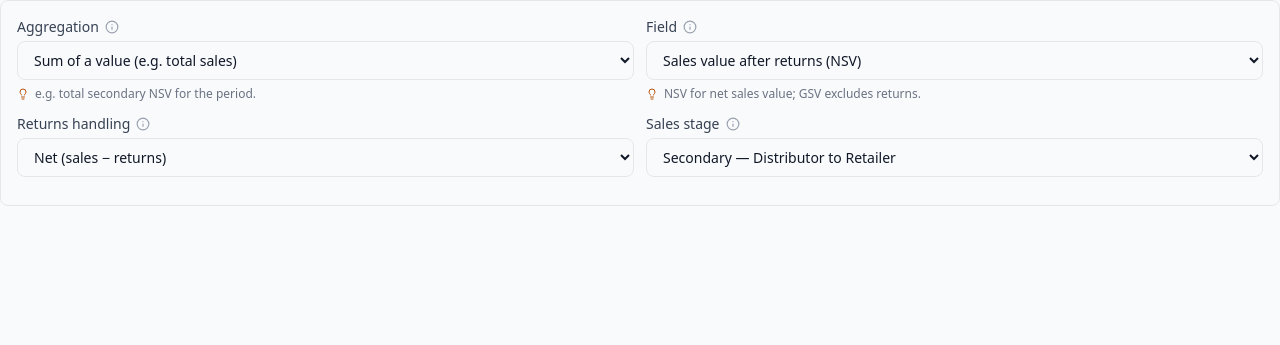
Test: MeasurementBuilder aggregation switching › moves the field into the distinct family when switching to a distinct count
Select "Count of distinct values (e.g. outlets, bills, SKUs)" in the dropdown named "Aggregation" at (326, 60), box x1=17 y1=41 x2=634 y2=80
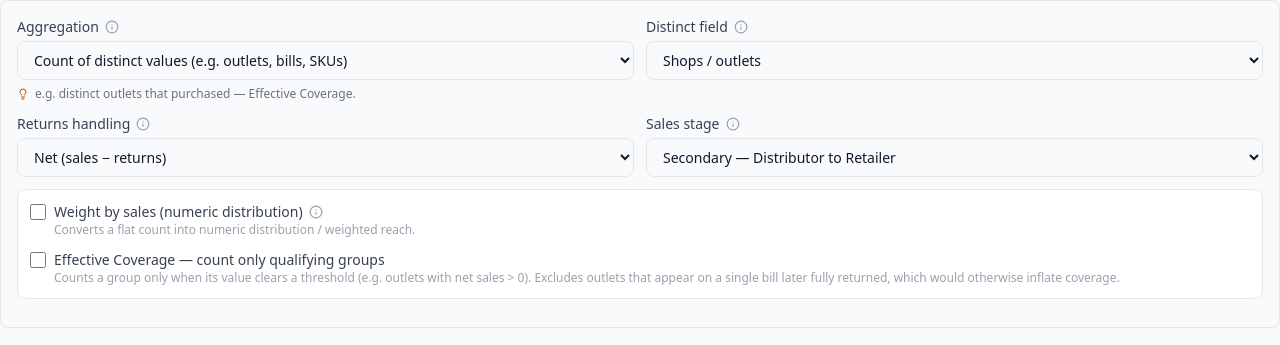
Check: the dropdown named "Distinct field" shows "Shops / outlets", box x1=646 y1=41 x2=1263 y2=80
